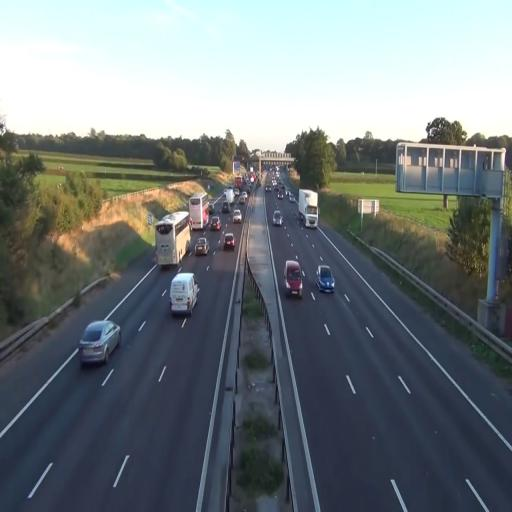vehicle: (78, 318, 122, 367), (155, 209, 191, 265), (170, 273, 199, 317), (167, 209, 191, 262), (156, 214, 178, 266), (299, 186, 319, 228), (298, 187, 318, 228), (188, 194, 210, 231), (284, 258, 303, 298), (316, 264, 335, 293), (222, 230, 236, 251), (195, 236, 208, 256), (272, 208, 284, 226), (232, 206, 242, 222)
